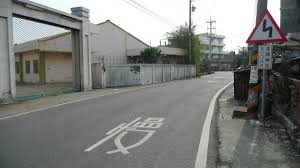Double_bend_left: (244, 9, 288, 44)
